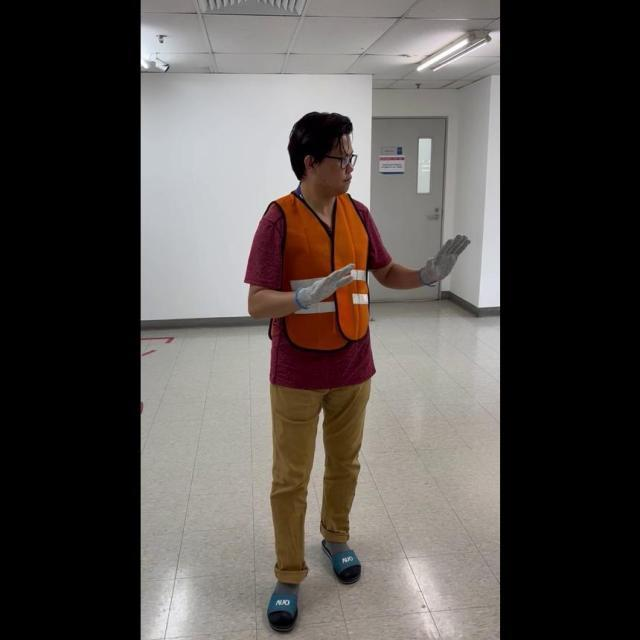gloved_hand: (287, 258, 359, 309), (417, 230, 470, 286)
